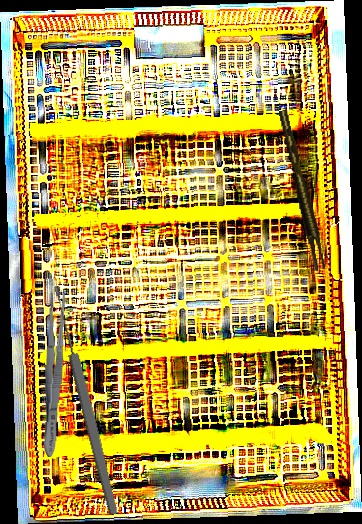Dressing Forceps: (38, 291, 69, 458)
Surgical Spoon: (50, 284, 121, 516)
Tissue Forceps: (278, 107, 327, 273)
